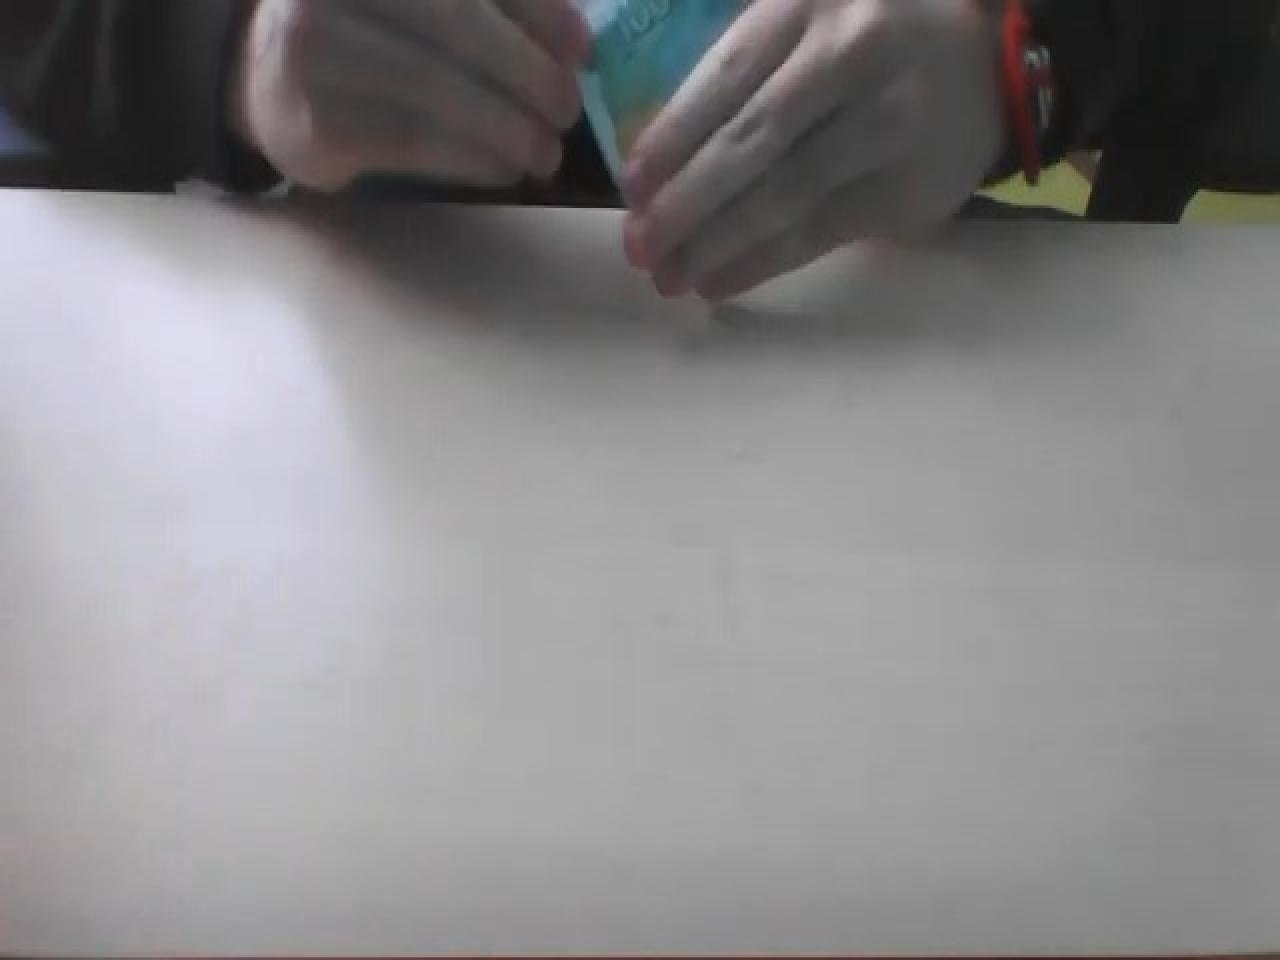100leva: (582, 0, 760, 176)
